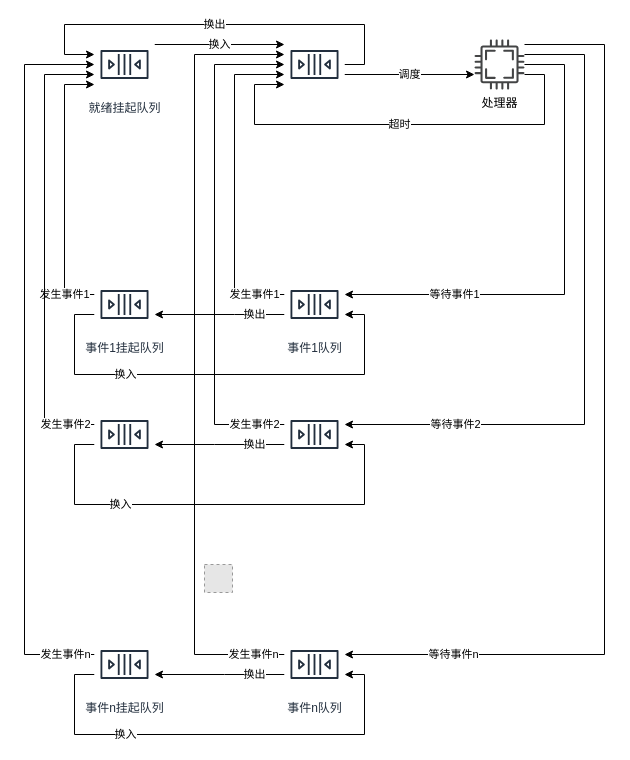
This 630x760 diagram has some shape labels left out. Grey dashed boxes stand in for pictures. The shapes that lost their labels are listed below. From the top down, each one's centre as x and y in pixels, then its label:
the point at 314,64: 就绪队列
the point at 124,434: 事件2挂起队列
the point at 314,434: 事件2队列
